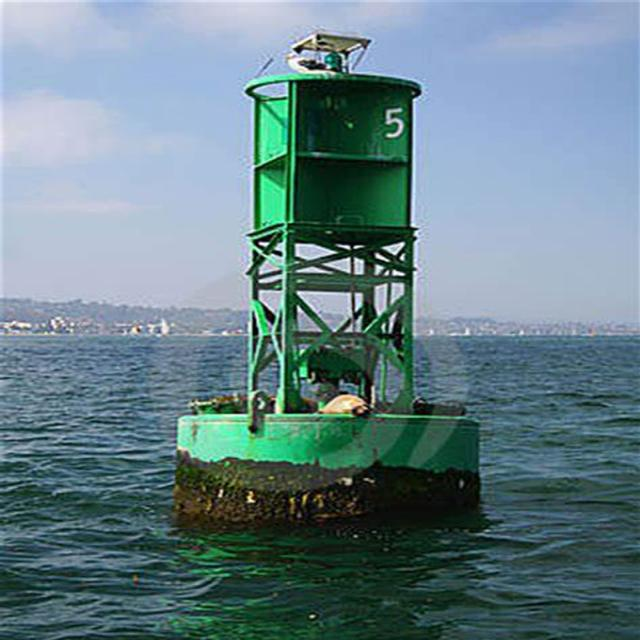buoy: (180, 23, 494, 524)
